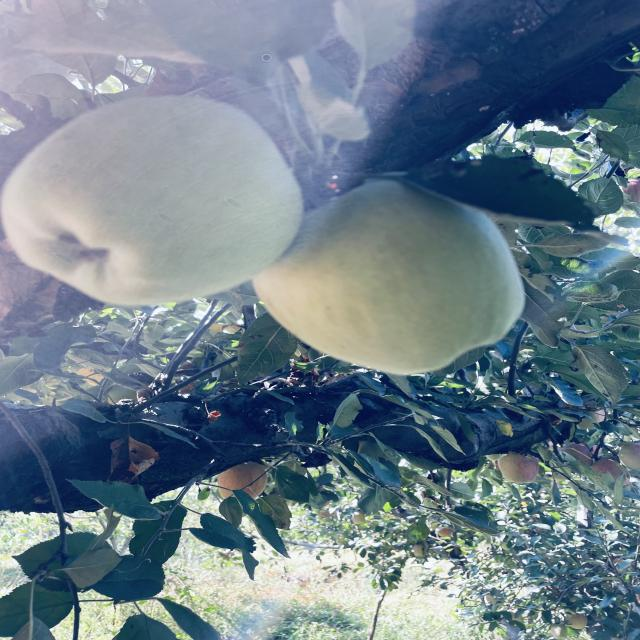Apple: (2, 96, 303, 305), (253, 179, 525, 375)
